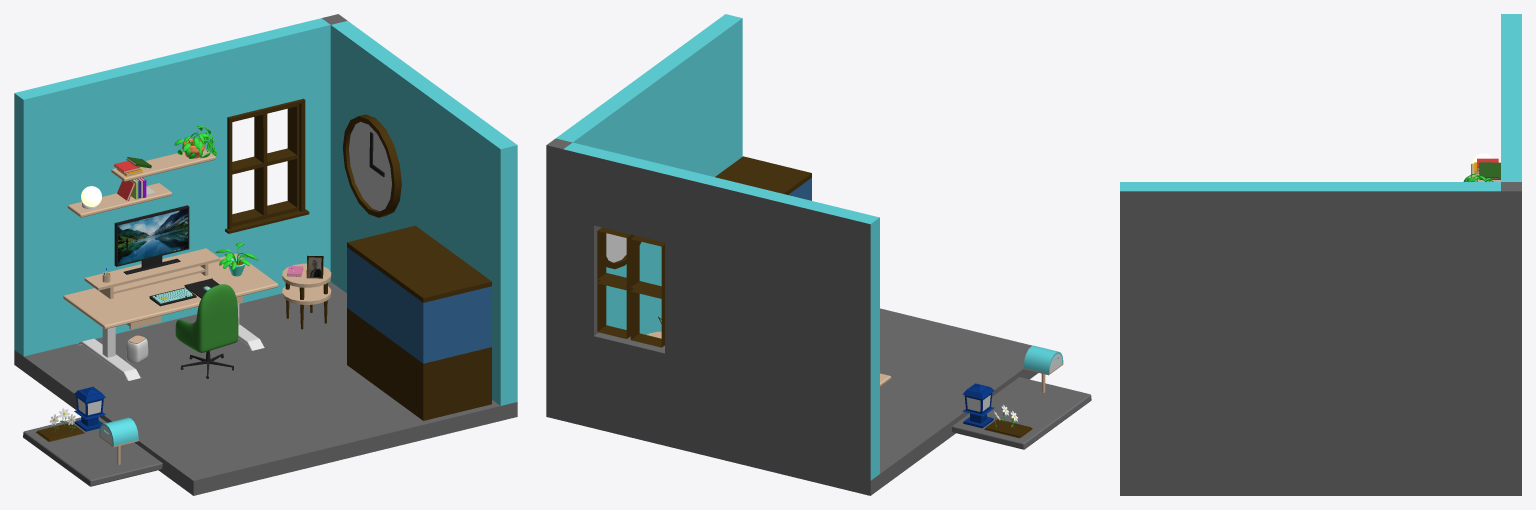
Rendered from finalroom.glb.
The picture shows the model from 3 angles, left to right: view 1: azimuth 30°, elevation 25°; view 2: azimuth 150°, elevation 25°; view 3: azimuth 270°, elevation 25°; orthographic projection. The views are drawn at different scales.
Parts seen in each view (by area): view 1: Cube.003, Tank, Water, Plane, Table Top, Cylinder.007, Table Top.003, Seat, Screen, Table Hutch, Table Top.001, Table Foot (+6 smaller); view 2: Cube.003, Table Top.003, Plane, Tank, Cylinder.008, Plane.001, Cylinder.007; view 3: Cube.003.
Part boxes in pixels (x1,y1,x2,y2): Cube.003: [14, 14, 517, 495]; Tank: [347, 225, 491, 420]; Water: [347, 247, 491, 363]; Plane: [225, 98, 309, 233]; Table Top: [63, 253, 278, 329]; Cylinder.007: [343, 114, 401, 217]; Table Top.003: [23, 417, 162, 486]; Seat: [175, 284, 238, 352]; Screen: [118, 208, 187, 264]; Table Hutch: [84, 248, 220, 298]; Table Top.001: [67, 183, 172, 217]; Table Foot: [77, 324, 264, 380]; Cube.003: [546, 14, 1037, 495]; Table Top.003: [952, 377, 1091, 449]; Plane: [597, 227, 664, 347]; Tank: [715, 156, 811, 194]; Cylinder.008: [1024, 345, 1063, 375]; Plane.001: [962, 383, 994, 428]; Cylinder.007: [606, 233, 641, 269]; Cube.003: [1120, 14, 1521, 495].
Size of the model in its own units: 13.55 by 8.86 by 10.59.
Materials: 93 (2 with a texture image).
